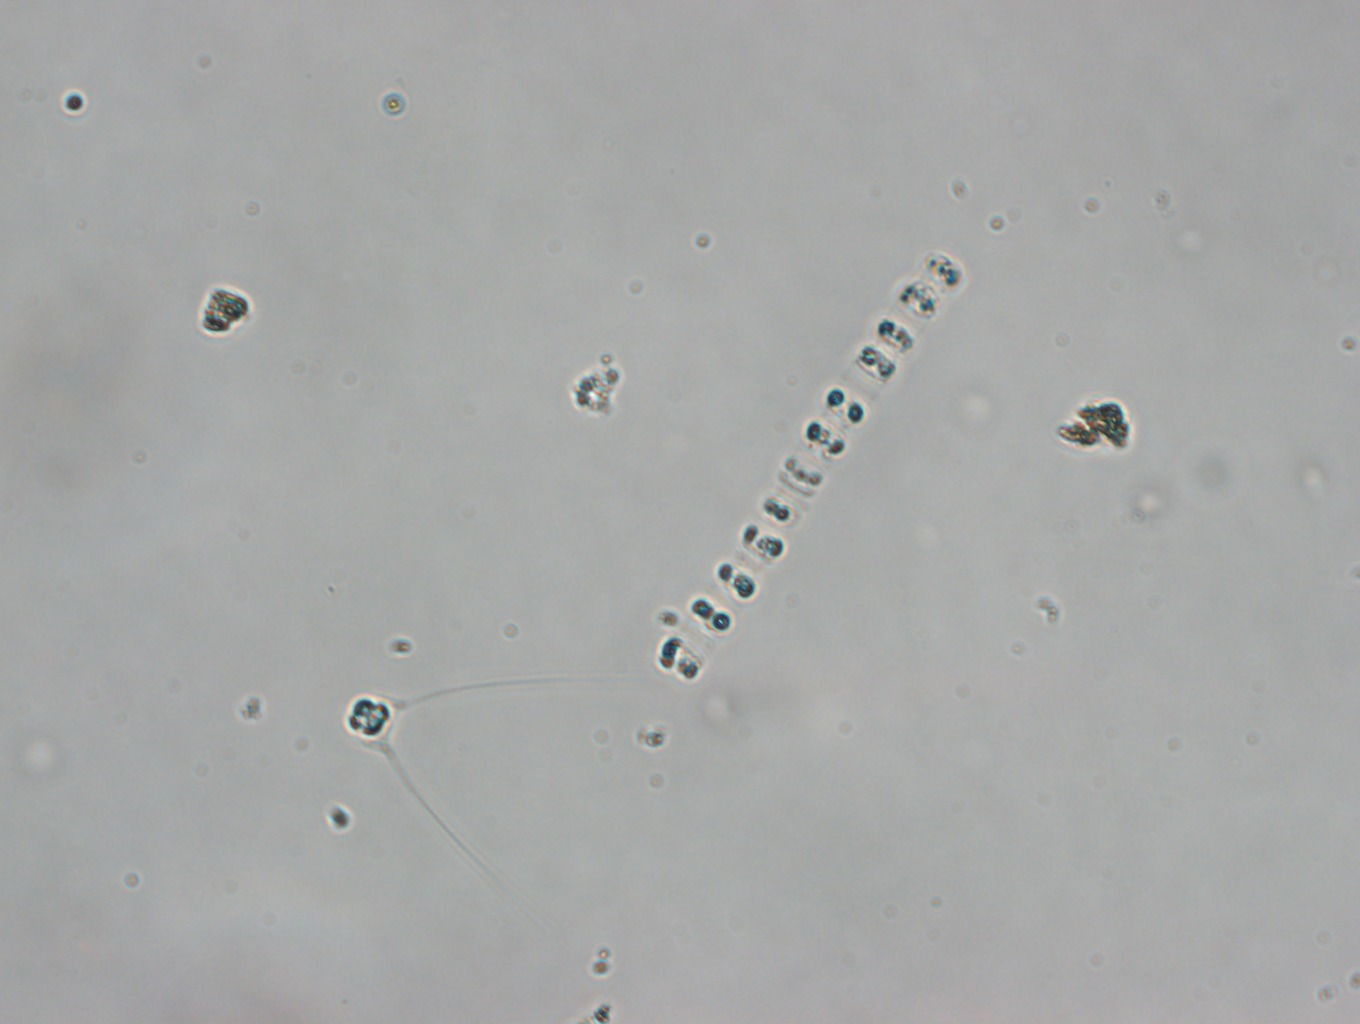chaetoceros: (339, 675, 611, 895)
skeletonema: (654, 247, 964, 686)
